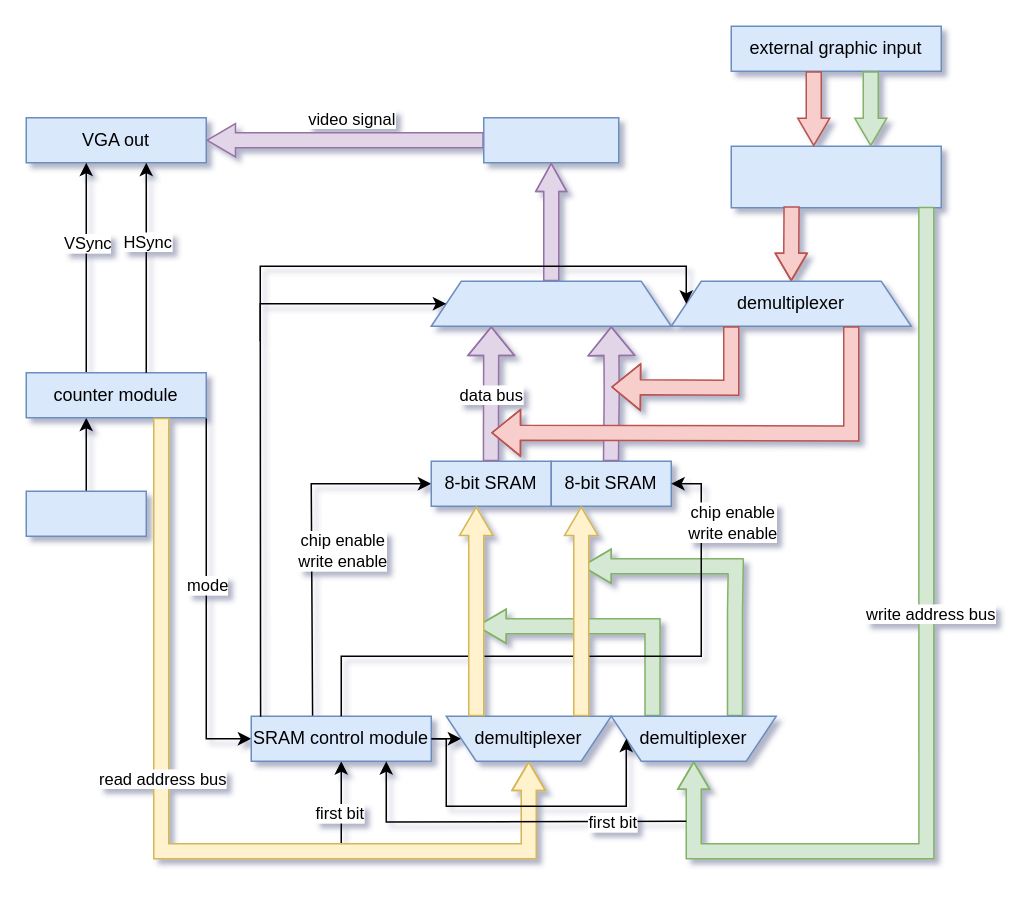
Some shapes in this 1031 by 899 pixel diagram are drawn without their labels. The centre of each missing label's shape, as x and y in pixels:
"crystal oscillator" belongs at (85,513).
"DAC module" belongs at (550,139).
"multiplexer" belongs at (550,303).
"SIPO shift register module" belongs at (835,176).
